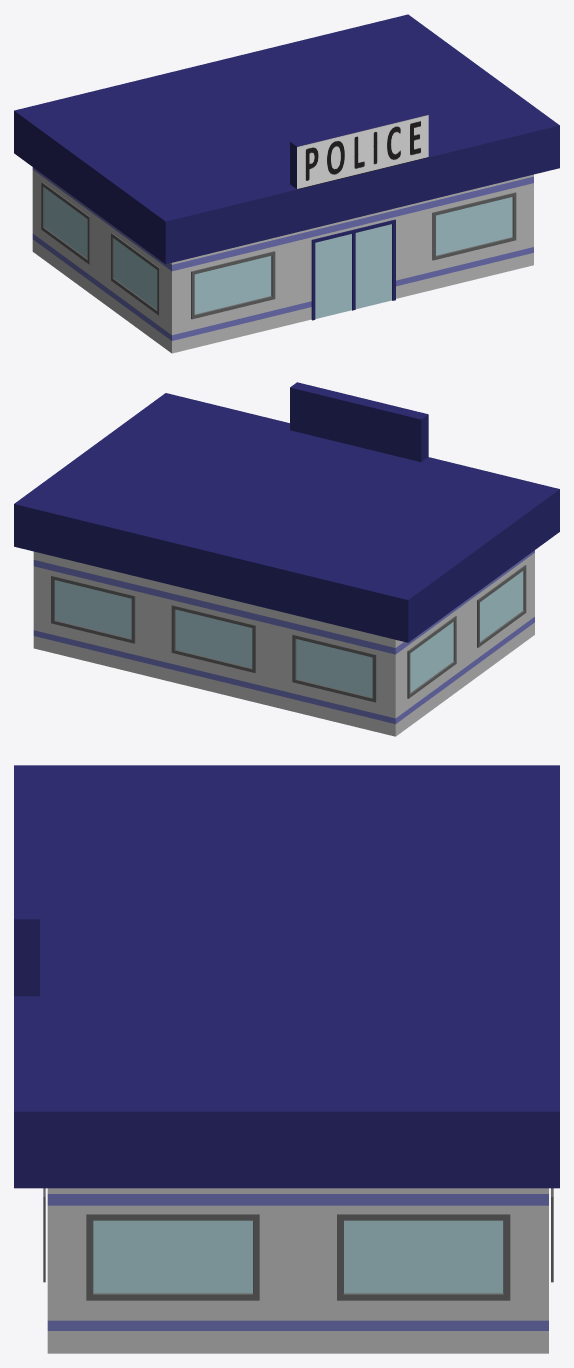
File: policeStation.fbx
3 views of the same model, one above another, from view 1: azimuth 30°, elevation 25°; view 2: azimuth 150°, elevation 25°; view 3: azimuth 270°, elevation 25° (orthographic). The views are drawn at different scales.
Visible parts, largest first — view 1: pCube1, Wall9, Wall1, Window3, Wall10, Window6, Window8, Wall3, Wall2, Window4, Window2; view 2: pCube1, Wall6, Wall4, Wall5, Window5, Window7, Window1, Wall3, Wall2, Window2, Window4; view 3: pCube1, Window (×2), Wall8, Wall7.
Part boxes in pixels (<box>): pCube1: <box>14,14,559,264</box>; Wall9: <box>413,174,533,294</box>; Wall1: <box>172,233,292,353</box>; Window3: <box>311,219,395,320</box>; Wall10: <box>292,204,413,323</box>; Window6: <box>191,251,275,319</box>; Window8: <box>432,192,516,260</box>; Wall3: <box>32,167,102,302</box>; Wall2: <box>102,218,171,353</box>; Window4: <box>41,182,90,264</box>; Window2: <box>111,233,160,315</box>; pCube1: <box>14,382,559,642</box>; Wall6: <box>33,551,154,677</box>; Wall4: <box>275,610,395,736</box>; Wall5: <box>154,581,274,707</box>; Window5: <box>292,634,376,702</box>; Window7: <box>51,575,135,643</box>; Window1: <box>171,605,255,672</box>; Wall3: <box>395,601,465,736</box>; Wall2: <box>465,550,534,685</box>; Window2: <box>477,565,526,647</box>; Window4: <box>407,616,456,698</box>; pCube1: <box>14,765,559,1188</box>; Window (×2): <box>86,1214,510,1300</box>; Wall8: <box>47,1188,298,1353</box>; Wall7: <box>298,1188,548,1353</box>.
Size of the model in its own units: 13.03 by 5.86 by 8.68.
7 materials, 1 textured.
